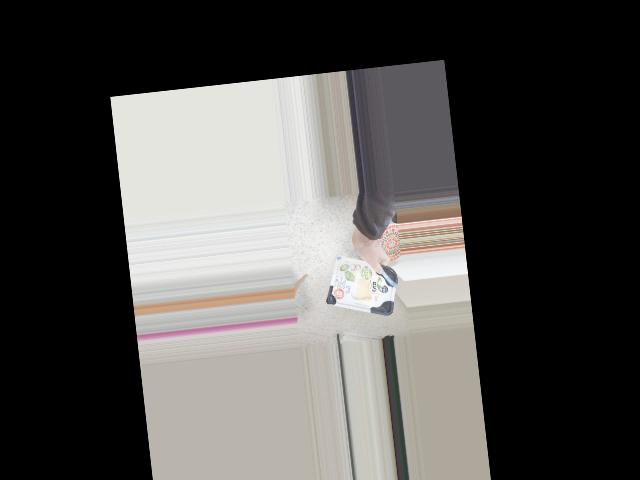cheese: (321, 251, 402, 323)
